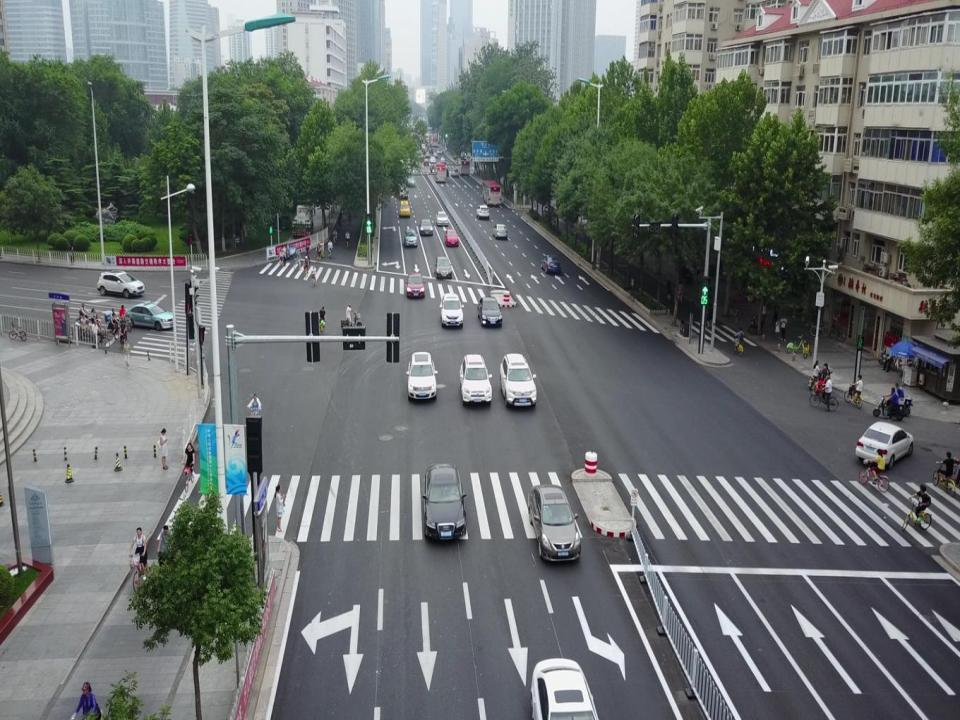bus: (481, 180, 501, 205), (433, 162, 446, 182), (457, 158, 469, 175), (430, 136, 438, 147), (422, 134, 429, 142)
car: (530, 658, 598, 720), (528, 485, 580, 561), (422, 463, 466, 540), (856, 422, 914, 468), (500, 353, 536, 407), (124, 300, 176, 332), (460, 354, 492, 405), (406, 351, 438, 400), (96, 270, 144, 298), (439, 292, 464, 327), (477, 296, 503, 326), (404, 273, 426, 297), (540, 254, 561, 274), (434, 256, 453, 278), (403, 228, 418, 246), (445, 228, 459, 246), (492, 224, 508, 239), (419, 218, 432, 236), (399, 200, 410, 217), (436, 211, 448, 226), (477, 205, 489, 219), (399, 189, 409, 201), (406, 178, 416, 187), (450, 168, 459, 177), (439, 156, 446, 163), (419, 155, 425, 162), (430, 156, 435, 163), (423, 159, 428, 166), (420, 144, 426, 149), (421, 146, 427, 151), (436, 149, 442, 154), (432, 153, 438, 158), (423, 149, 428, 154), (425, 153, 430, 158), (428, 149, 434, 153), (427, 144, 431, 149)
